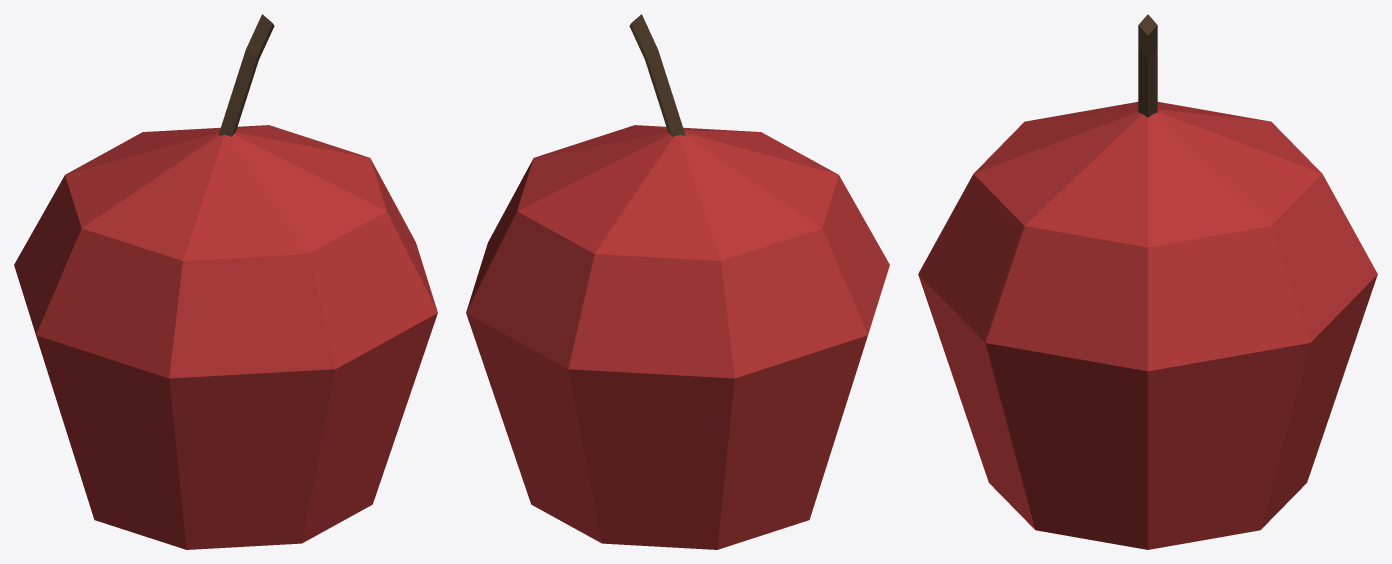
The model's file is SM_apple_red.fbx.
The picture shows the model from 3 angles, left to right: view 1: azimuth 30°, elevation 25°; view 2: azimuth 150°, elevation 25°; view 3: azimuth 270°, elevation 25°; orthographic projection. The views are drawn at different scales.
Visible parts, largest first — view 1: Sphere002; view 2: Sphere002; view 3: Sphere002.
Part boxes in pixels (x1,y1,x2,y2): Sphere002: [14, 14, 437, 549]; Sphere002: [466, 14, 889, 549]; Sphere002: [918, 14, 1377, 549].
Bounding box in the file's own units: 6.32 × 8.29 × 6.32.
